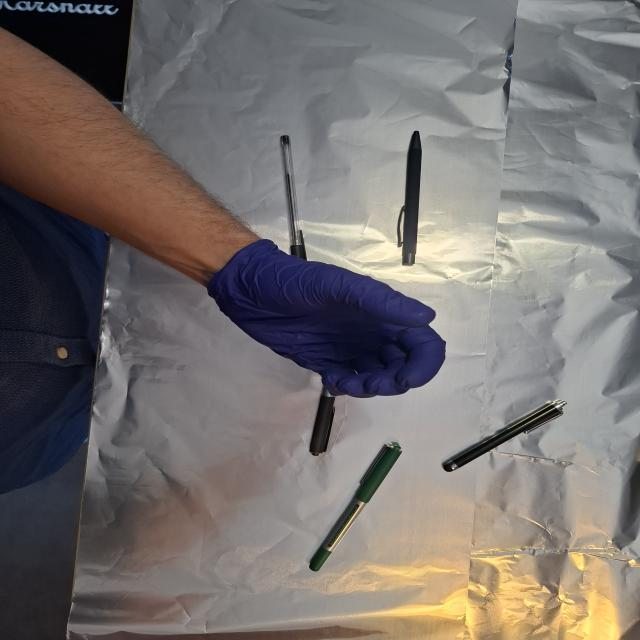glove_on: (205, 238, 449, 401)
